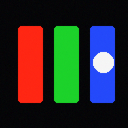2 circle: (93, 52, 113, 72)
